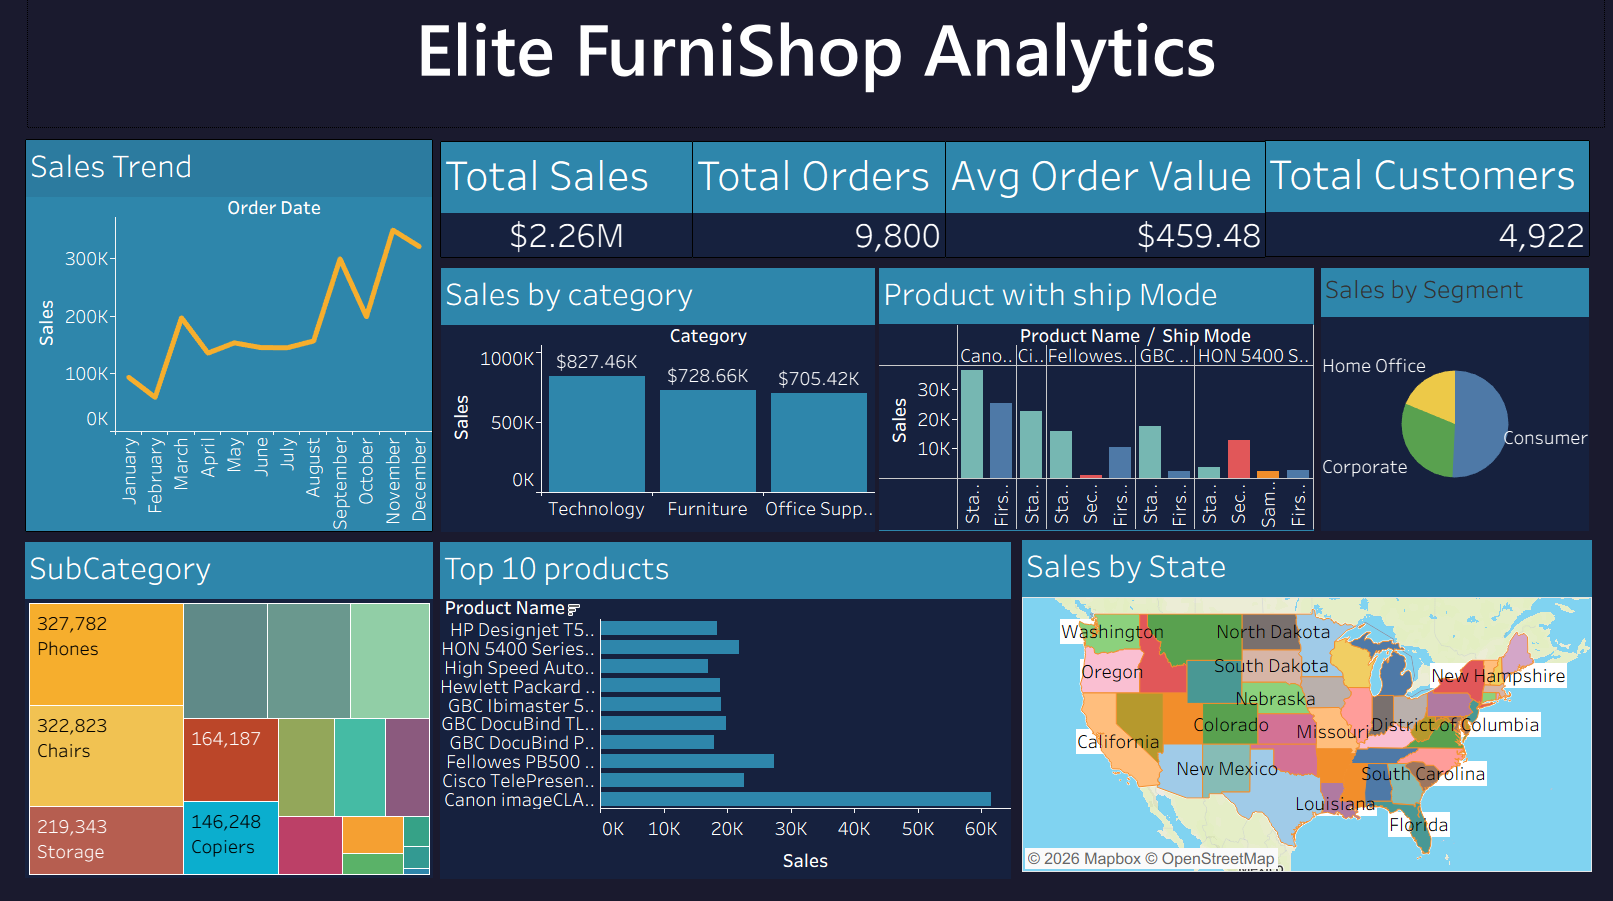

The dashboard page shown, as its layout file describes it:
{"tool":"tableau","page":{"name":"Furntinue sales Dashboard","canvas":[1600,900],"ordinal":1},"visuals":[{"type":"worksheet","title":"Title","mark":"Automatic","box":[6,9,1578,135]},{"type":"worksheet","title":"Sales Trend","mark":"Line","rows":["Sales"],"cols":["Order_Date"],"box":[4,155,408,393]},{"type":"worksheet","title":"Total Customers","mark":"Automatic","box":[1243,156,326,117]},{"type":"worksheet","title":"Total Sales","mark":"Automatic","box":[419,157,254,117]},{"type":"worksheet","title":"Total Orders","mark":"Automatic","box":[671,157,254,117]},{"type":"worksheet","title":"Avg Order Value","mark":"Automatic","box":[924,157,321,117]},{"type":"worksheet","title":"Sales by category","mark":"Bar","rows":["Sales"],"cols":["Category"],"box":[420,284,434,264]},{"type":"worksheet","title":"Product with ship Mode","mark":"Automatic","rows":["Sales"],"cols":["Product_Name","Ship_Mode"],"box":[858,284,435,263]},{"type":"worksheet","title":"Sales by Segment","mark":"Pie","box":[1300,284,268,263]},{"type":"worksheet","title":"Sales by State","mark":"Multipolygon","box":[1001,556,570,332]},{"type":"worksheet","title":"SubCategory","mark":"Automatic","box":[4,558,408,336]},{"type":"worksheet","title":"Top 10 products","mark":"Automatic","rows":["Product_Name"],"cols":["Sales"],"box":[419,558,571,337]}]}

Visuals, with their boxes in screenshot pixels (x1, y1, x2, y2), scaled from the page's 1600x900 canvas onto the 1613x901 screenshot:
"Title" worksheet: box(6, 9, 1597, 144)
"Sales Trend" worksheet (Line marks): box(4, 155, 415, 549)
"Total Customers" worksheet: box(1253, 156, 1582, 273)
"Total Sales" worksheet: box(422, 157, 678, 274)
"Total Orders" worksheet: box(676, 157, 933, 274)
"Avg Order Value" worksheet: box(932, 157, 1255, 274)
"Sales by category" worksheet (Bar marks): box(423, 284, 861, 549)
"Product with ship Mode" worksheet: box(865, 284, 1304, 548)
"Sales by Segment" worksheet (Pie marks): box(1311, 284, 1581, 548)
"Sales by State" worksheet (Multipolygon marks): box(1009, 557, 1584, 889)
"SubCategory" worksheet: box(4, 559, 415, 895)
"Top 10 products" worksheet: box(422, 559, 998, 896)
